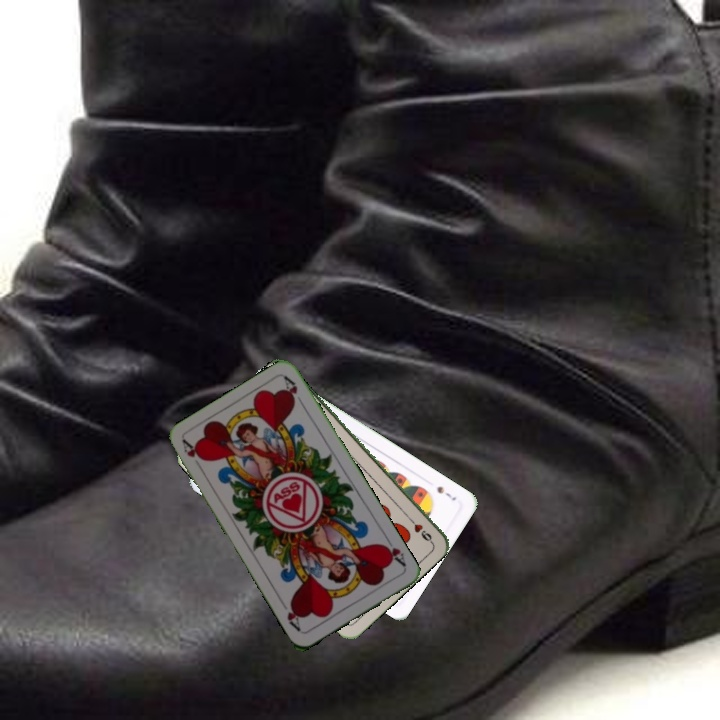H9: (403, 512, 435, 545)
HA: (377, 533, 409, 570), (178, 436, 206, 473)
S7: (433, 482, 459, 503)
